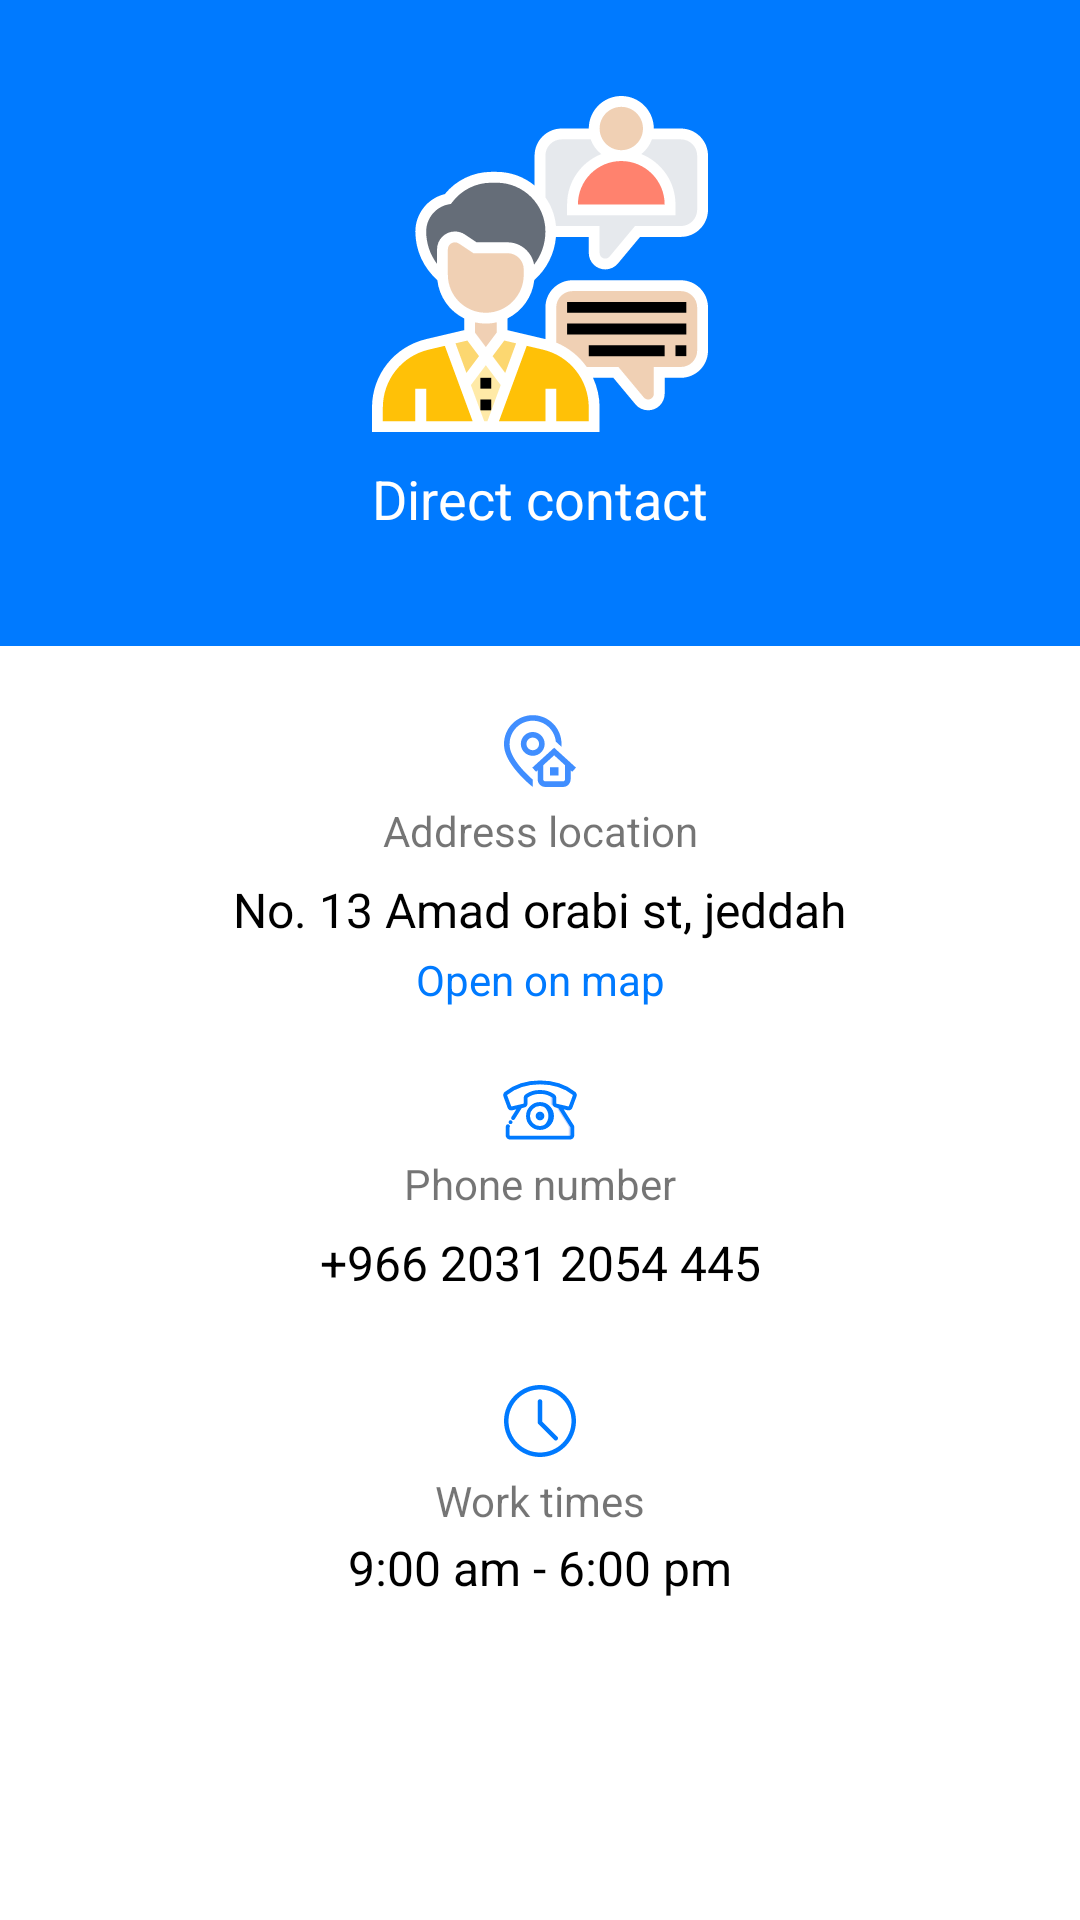

Point at icon controls on the screen. Image size 1080px×1920px, points as (x,y).
address contact: (540,751)
clock contact: (540,1421)
phone contact: (540,1110)
